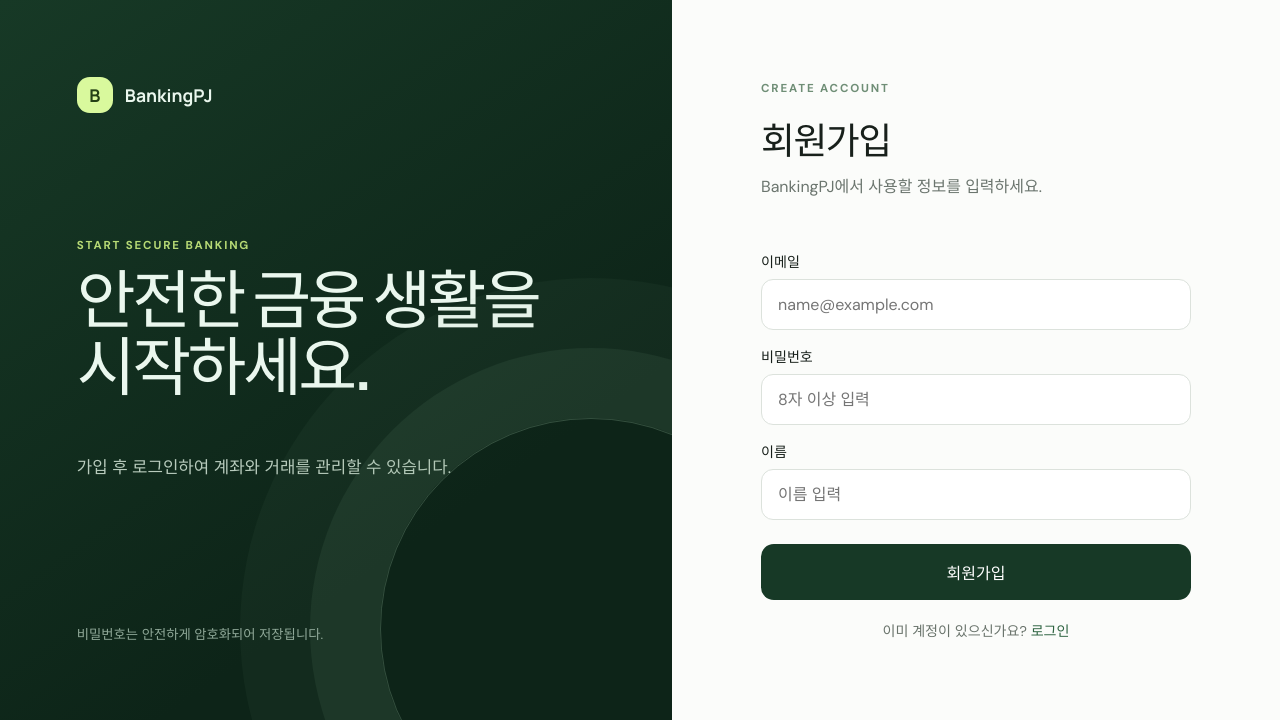
Test case: Frontend 회원가입 흐름 › password 최소 길이를 검증한다
Type "new@example.com" into the field labelled "이메일" at (976, 304), box [761,279,1191,330]
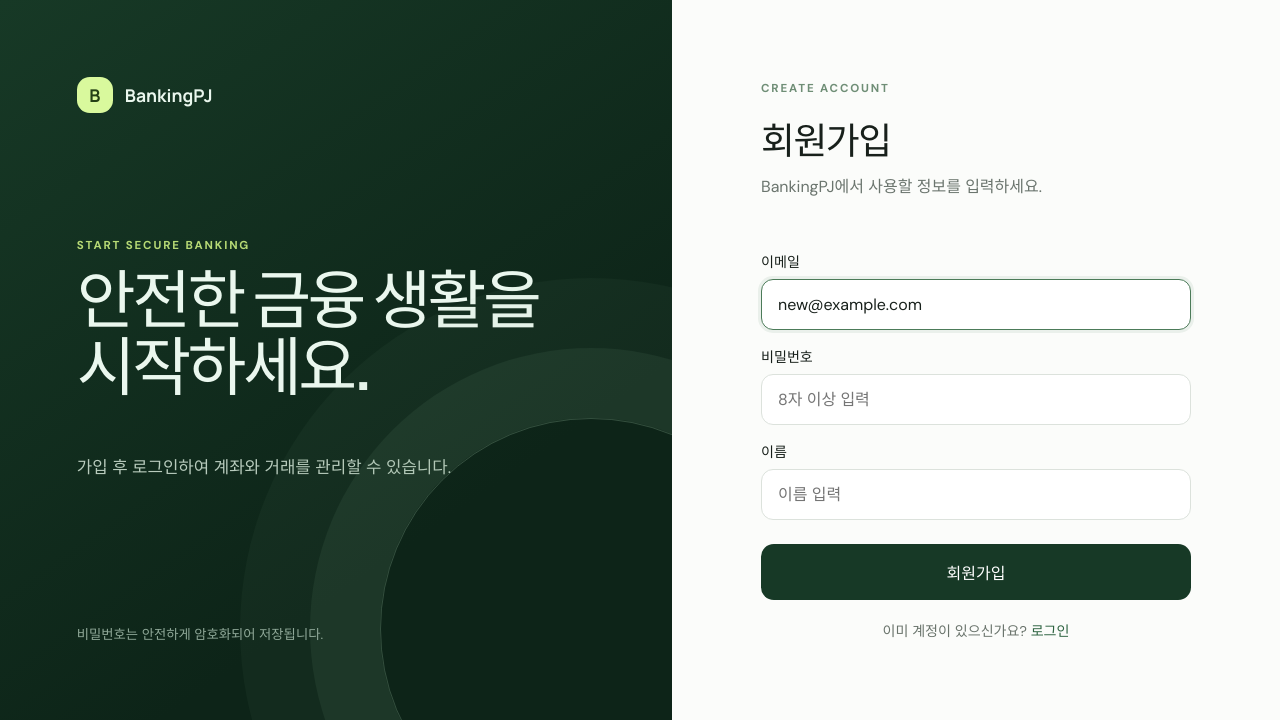
Type "short" into the password field labelled "비밀번호" at (976, 400), box [761,374,1191,425]
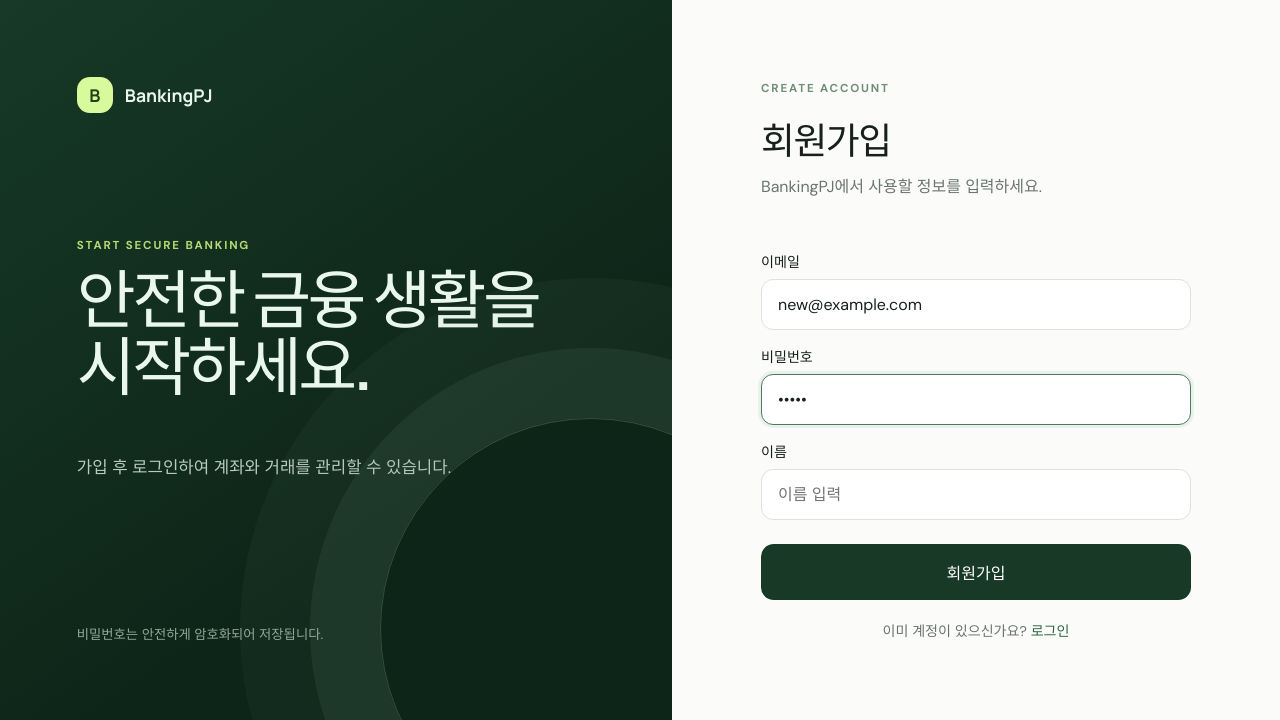
Type "홍길동" into the field labelled "이름" at (976, 494), box [761,468,1191,520]
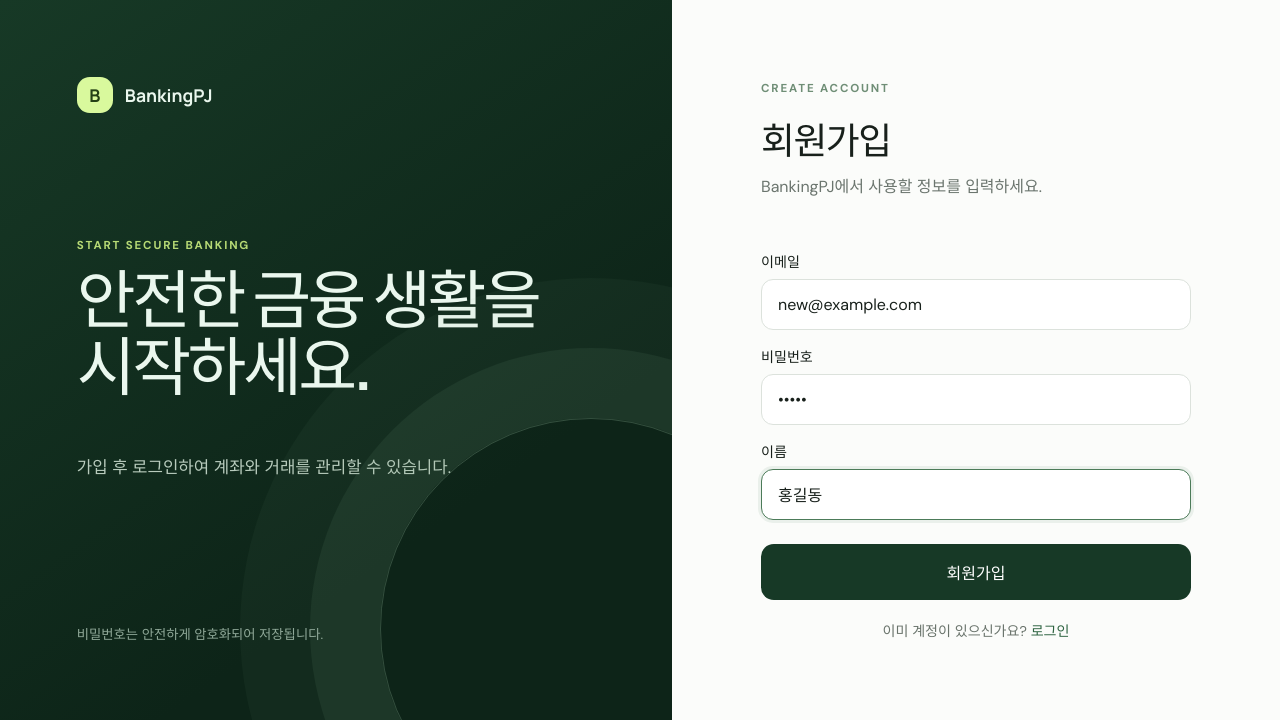
Click the button "회원가입" at (976, 572), box [761,544,1191,600]
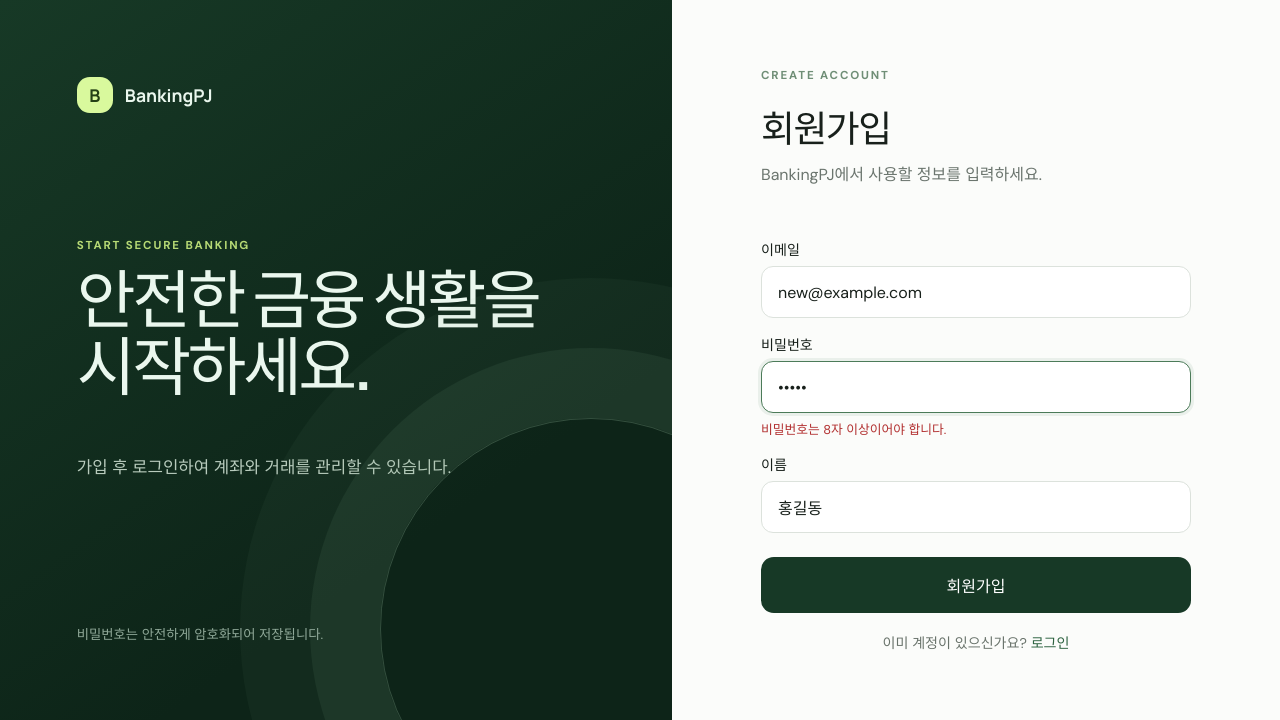
Expected: the text "비밀번호는 8자 이상이어야 합니다." is shown, [761,421,946,438]
